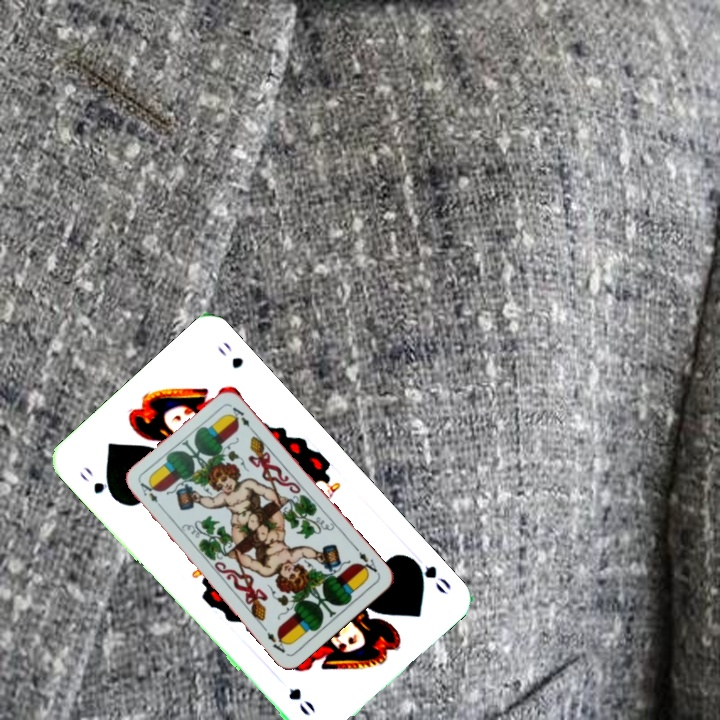EA: (351, 543, 382, 578), (135, 478, 166, 512)
GO: (404, 552, 454, 597), (75, 462, 120, 504)
